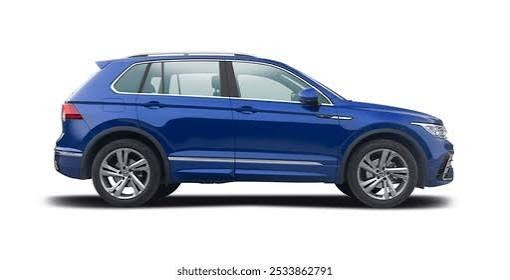car: (49, 44, 463, 205)
